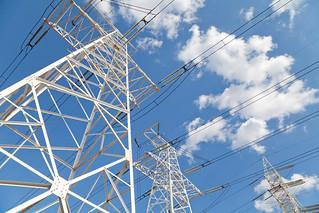power_tower: (0, 17, 157, 213), (136, 121, 210, 213)
